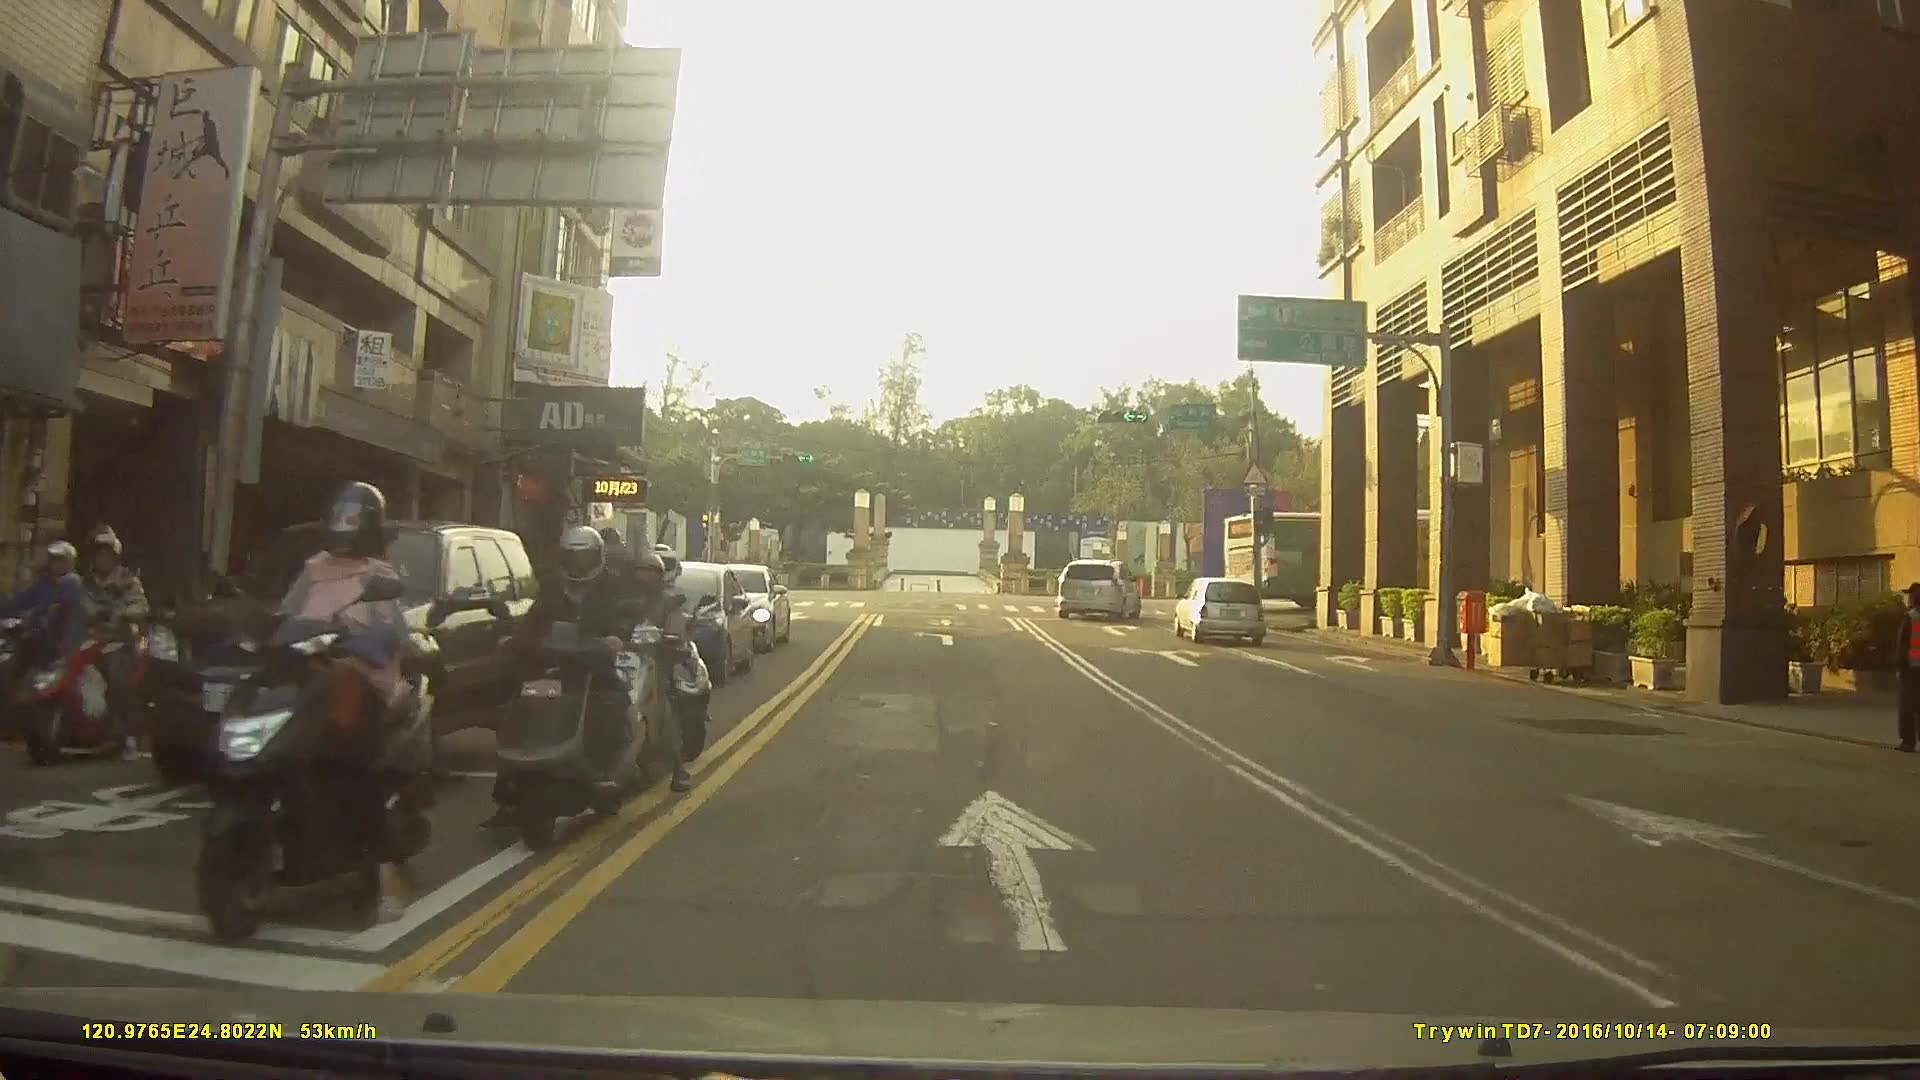pedestrian: (1896, 573, 1920, 759)
rider: (200, 484, 438, 943), (488, 528, 652, 858), (16, 525, 163, 768)
vehicle: (132, 519, 542, 796), (1223, 509, 1489, 604), (1171, 572, 1268, 644), (1056, 555, 1138, 618)
